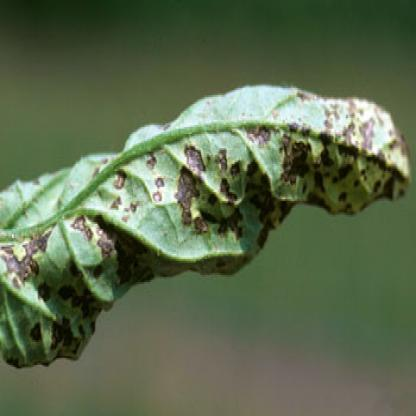Tomato leaf late blight: (4, 78, 412, 376)
